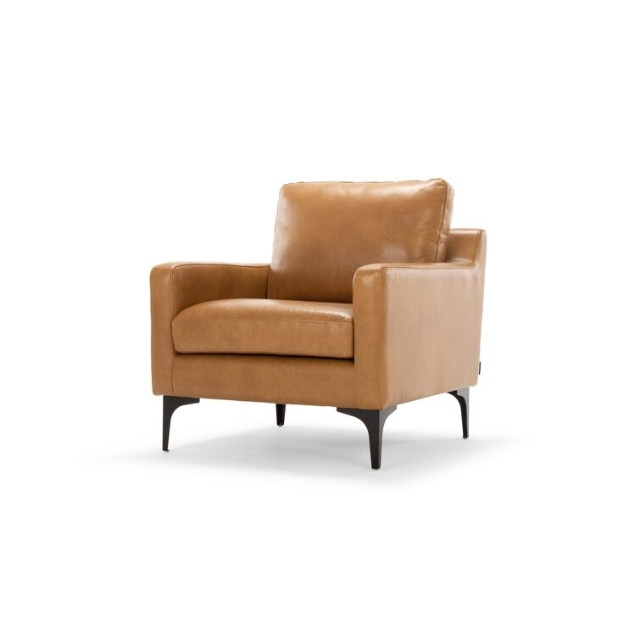obstacle: (150, 179, 485, 468)
